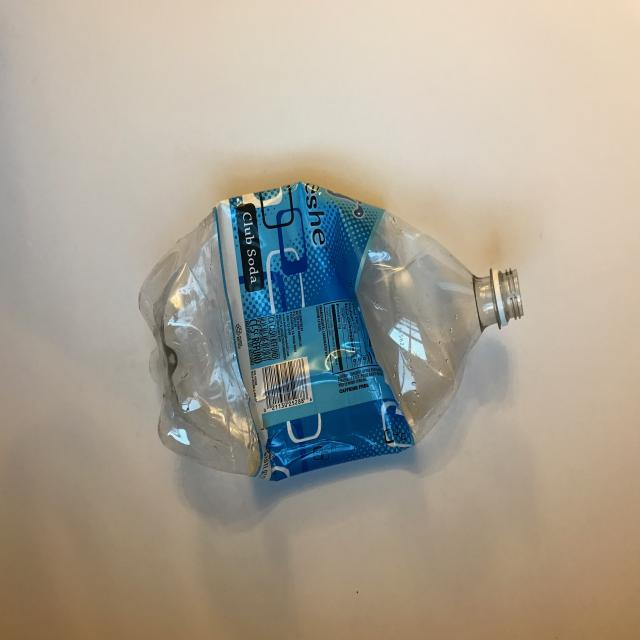plastic: (138, 180, 523, 482)
